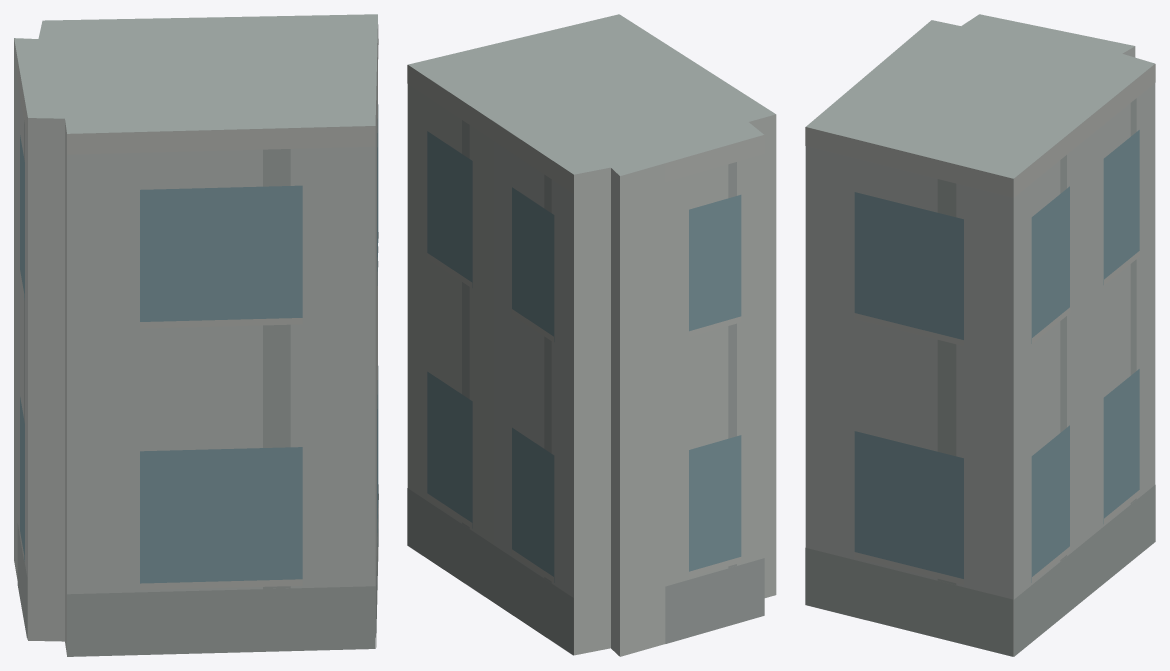
The model's file is survey-upis-32974158.glb.
The picture shows the model from 3 angles, left to right: view 1: azimuth 30°, elevation 25°; view 2: azimuth 150°, elevation 25°; view 3: azimuth 270°, elevation 25°; orthographic projection. The views are drawn at different scales.
Parts seen in each view (by area): view 1: survey-upis-32974158.tmp; view 2: survey-upis-32974158.tmp; view 3: survey-upis-32974158.tmp.
Part boxes in pixels (x1,y1,x2,y2): survey-upis-32974158.tmp: (14, 14, 378, 656); survey-upis-32974158.tmp: (407, 14, 776, 656); survey-upis-32974158.tmp: (805, 14, 1155, 656).
Size of the model in its own units: 4.52 by 6.1 by 4.05.
